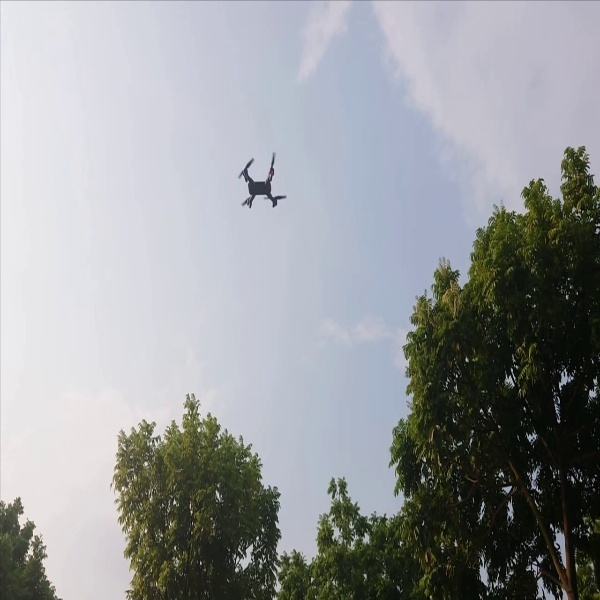drone: (233, 149, 292, 219)
